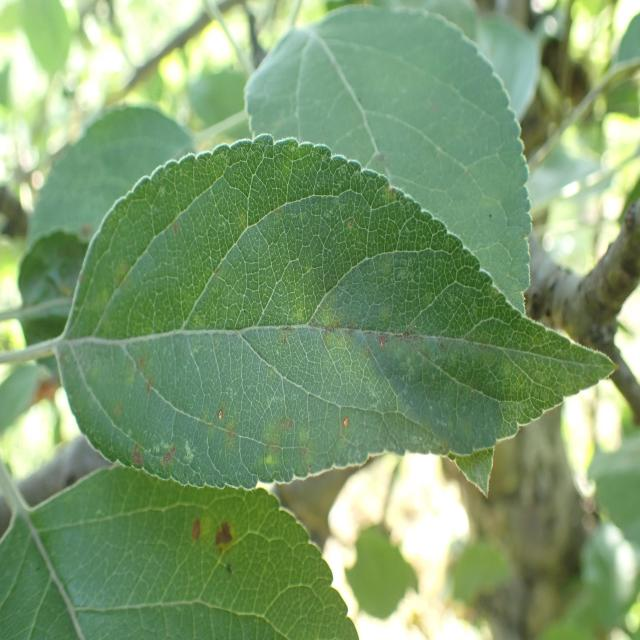scab: (49, 193, 520, 476), (306, 31, 411, 180)
